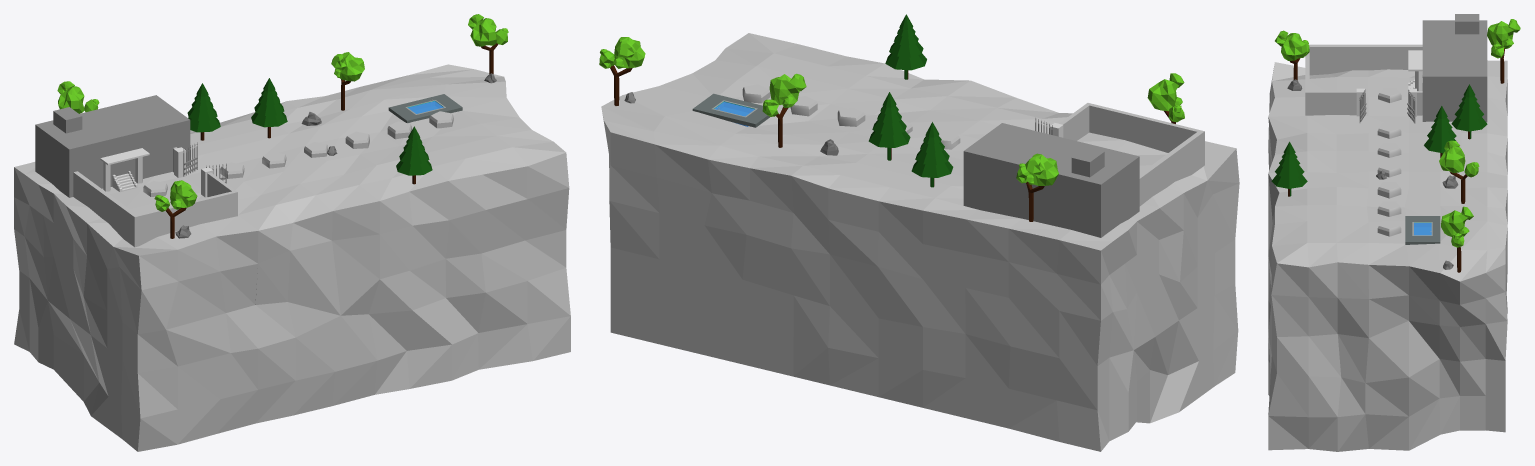
File: world.FBX
3 views of the same model, side by side, from view 1: azimuth 30°, elevation 25°; view 2: azimuth 150°, elevation 25°; view 3: azimuth 270°, elevation 25° (orthographic). The views are drawn at different scales.
Parts seen in each view (by area): view 1: Cube, Box004, Vegitation, Box005, Felder, Säulen Treppe und Dach, Pool, Mauer; view 2: Cube, Box004, Vegitation, Box005, Felder, Pool, Mauer; view 3: Cube, Vegitation, Box004, Box005, Felder, Säulen Treppe und Dach, Pool, Mauer, Zaun.
Boxes of the visible parts, box(x1,y1,x2,y2) form: Cube: box(14, 64, 570, 451); Box004: box(35, 95, 190, 197); Vegitation: box(57, 14, 508, 238); Box005: box(73, 147, 237, 247); Felder: box(143, 111, 453, 196); Säulen Treppe und Dach: box(100, 147, 213, 197); Pool: box(388, 94, 462, 123); Mauer: box(53, 107, 82, 133); Cube: box(601, 33, 1239, 451); Box004: box(963, 123, 1139, 237); Vegitation: box(599, 14, 1184, 221); Box005: box(1059, 103, 1204, 206); Felder: box(742, 84, 960, 149); Pool: box(692, 93, 769, 127); Mauer: box(1071, 147, 1104, 177); Cube: box(1268, 60, 1507, 451); Vegitation: box(1271, 19, 1520, 272); Box004: box(1422, 20, 1487, 122); Box005: box(1305, 44, 1422, 115); Felder: box(1377, 87, 1401, 236); Säulen Treppe und Dach: box(1356, 50, 1422, 116); Pool: box(1405, 216, 1440, 244); Mauer: box(1455, 14, 1479, 34); Zaun: box(1359, 89, 1415, 123).
Bounding box in the file's own units: 157 × 85.83 × 76.74.
